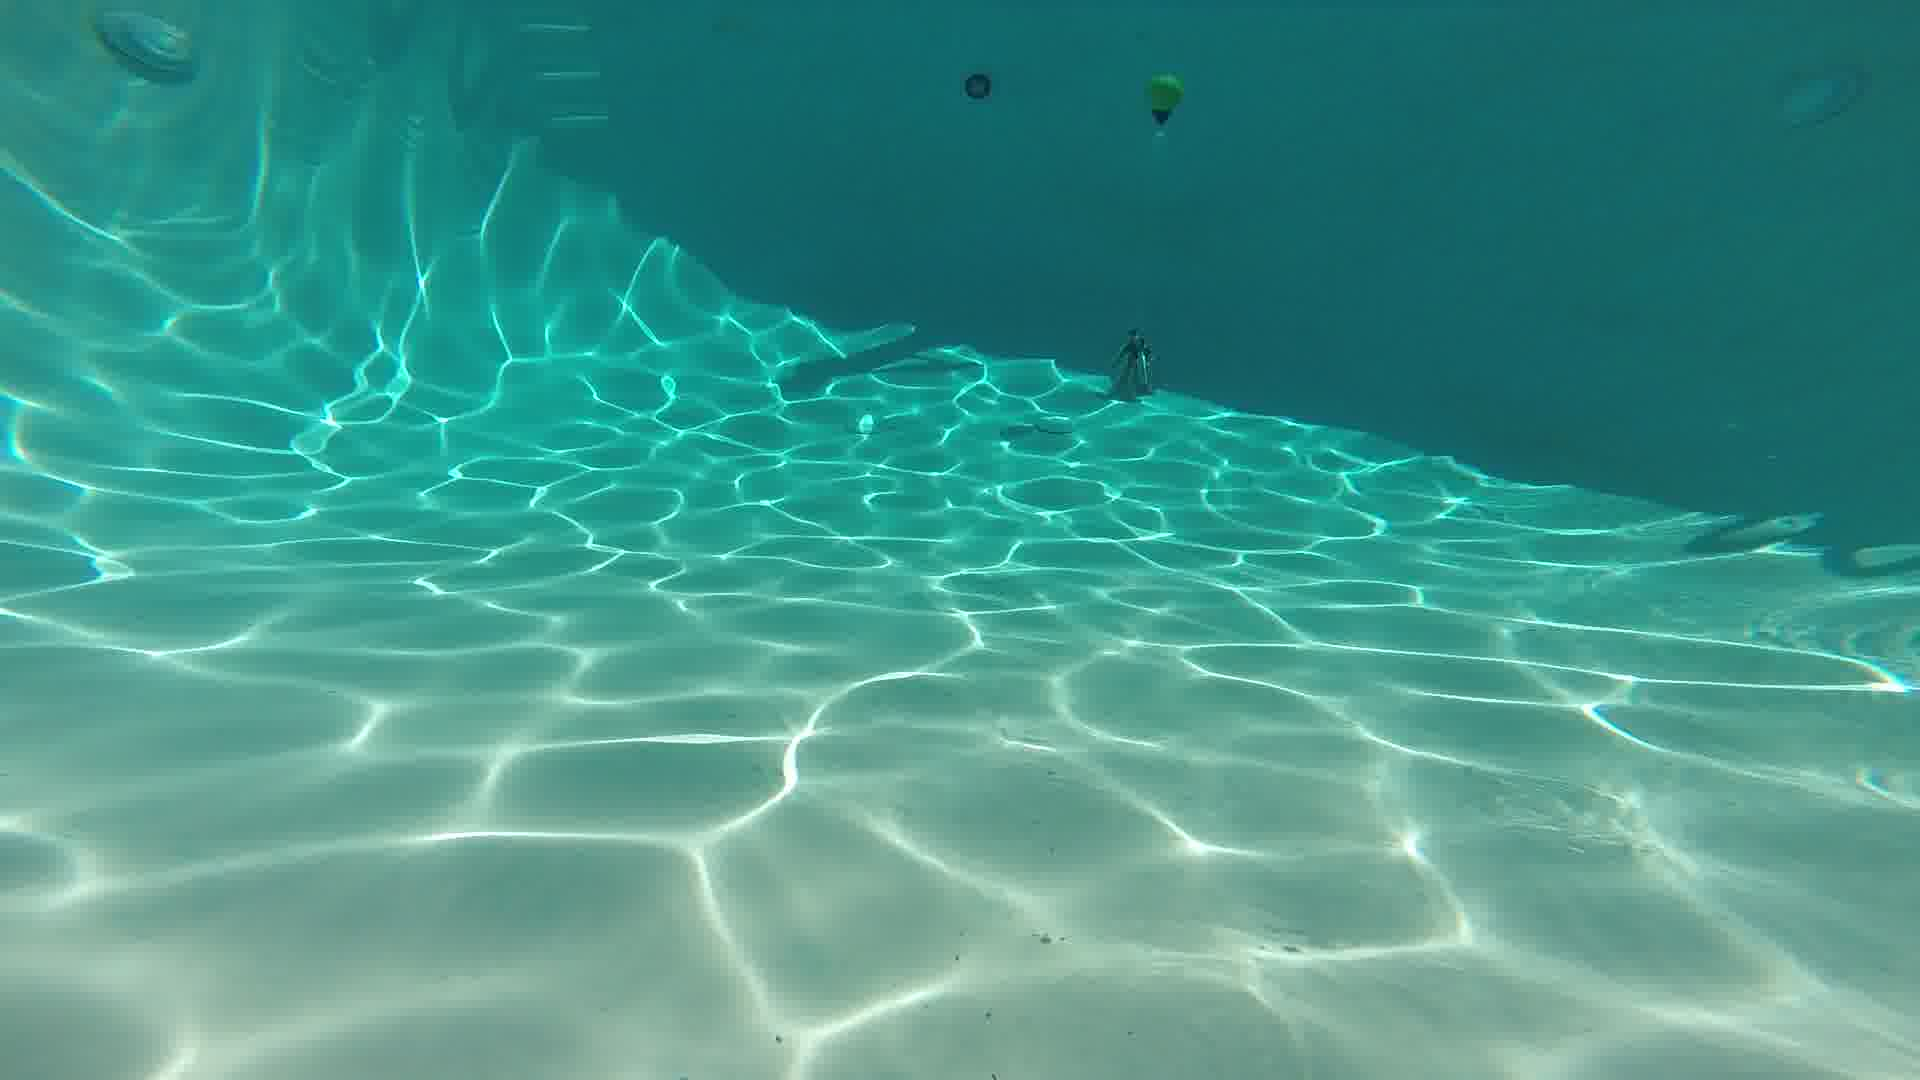yellow buoy: (1141, 70, 1185, 138)
